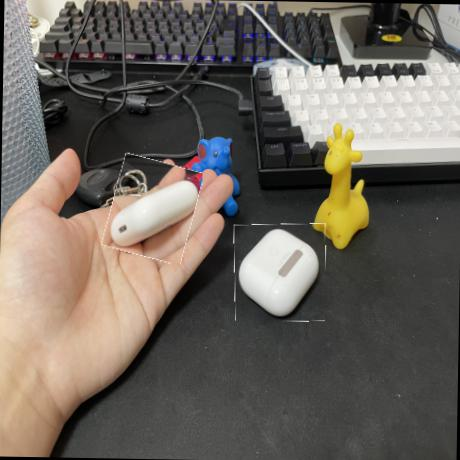airpod2: (105, 156, 198, 260)
airpod3: (233, 222, 327, 322)
